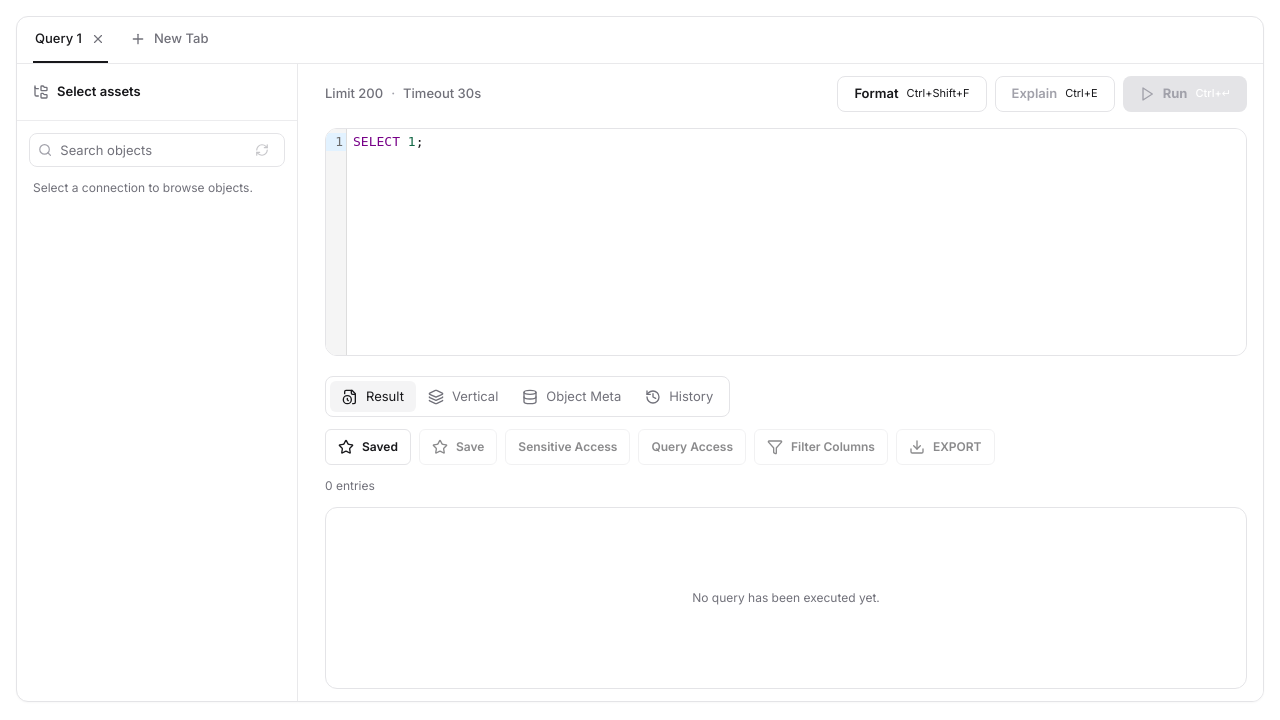
Test: SQLEditorPage › 執行查詢後應自動切回 Result 分頁
Expected: the button "Run Ctrl+↵" is shown, [1123, 76, 1247, 112]
Step 1. Click the button with aria-label "Asset Selector" → (157, 92), box [29, 72, 285, 112]
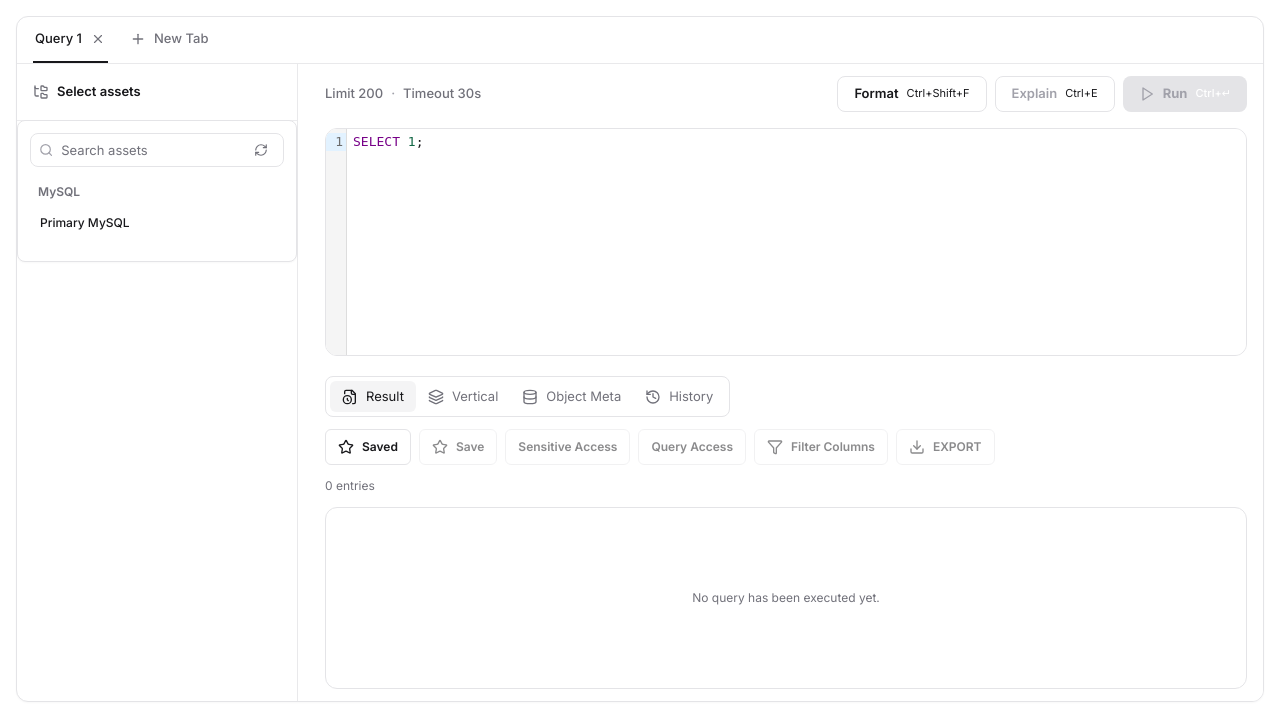
Step 2. Click the button "Primary MySQL" → (157, 222), box [30, 204, 284, 240]
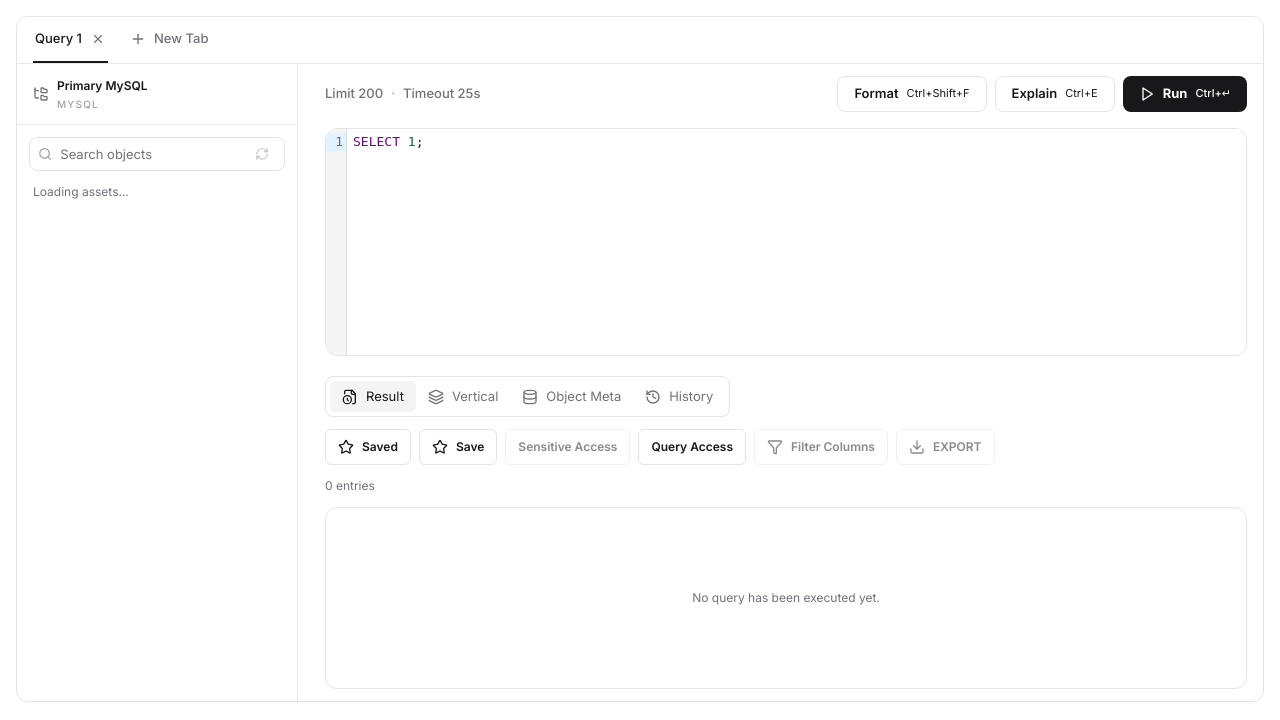
Step 3. Click the button "History" → (679, 397), box [633, 381, 725, 412]
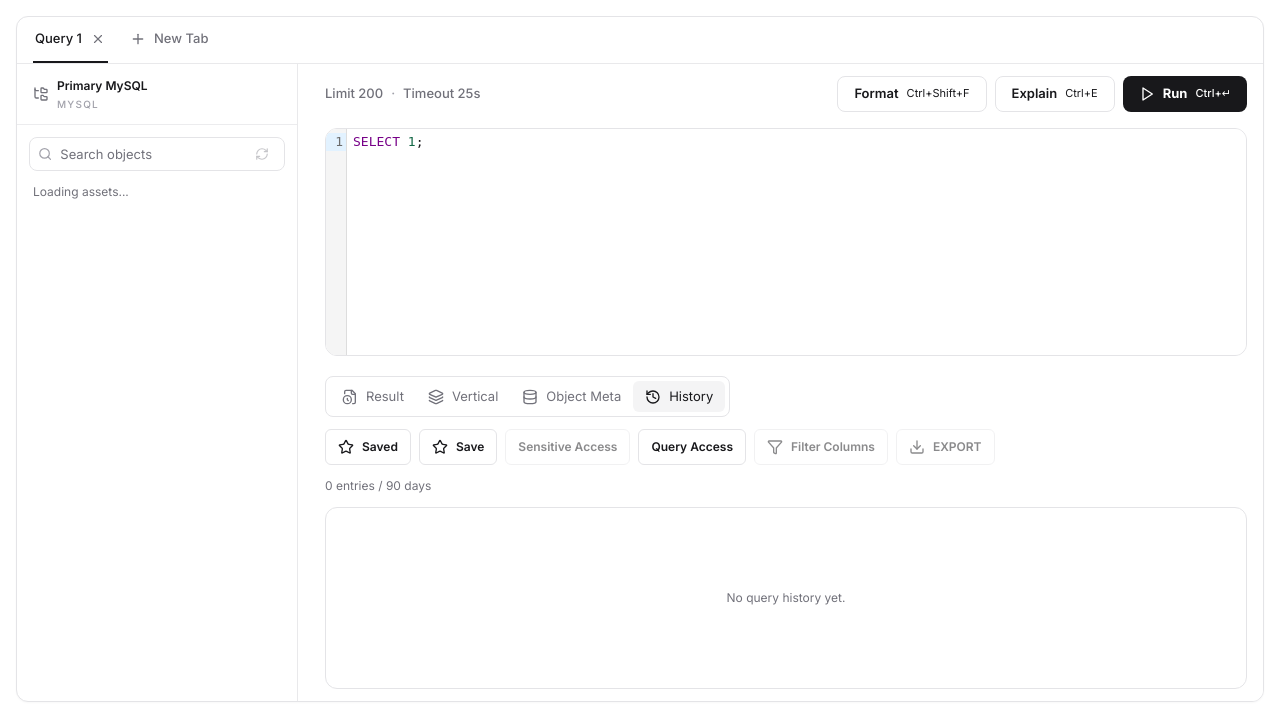
Step 4. Click the button "Run Ctrl+↵" → (1185, 94), box [1123, 76, 1247, 112]
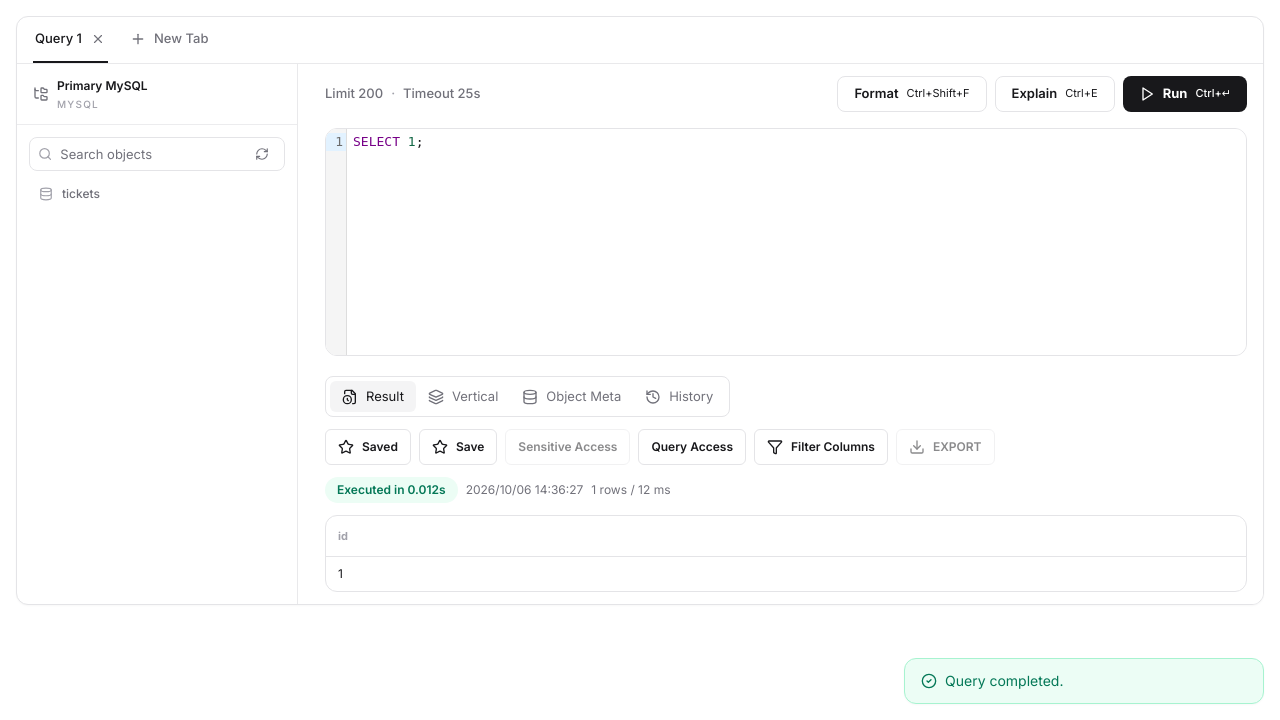
Expected: the text "1 rows / 12 ms" is shown, [591, 481, 670, 499]
